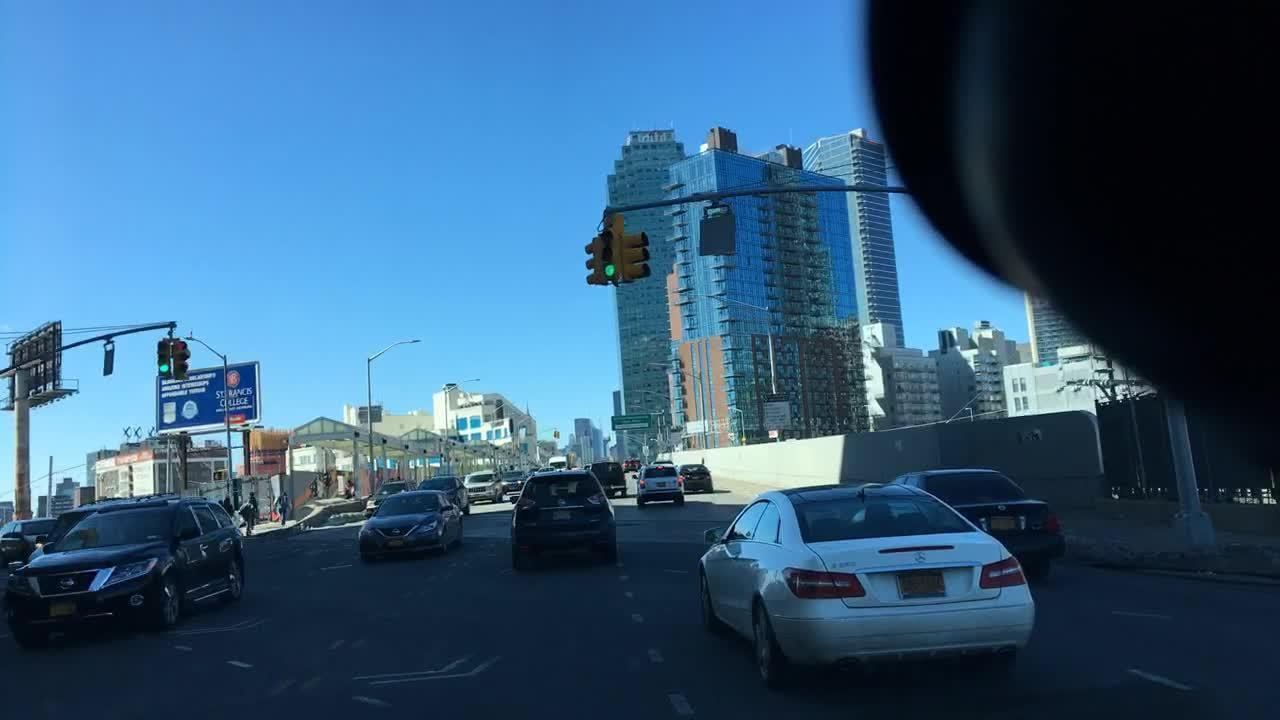Mercedes: (907, 547, 933, 568)
Nissan: (390, 523, 400, 537)
